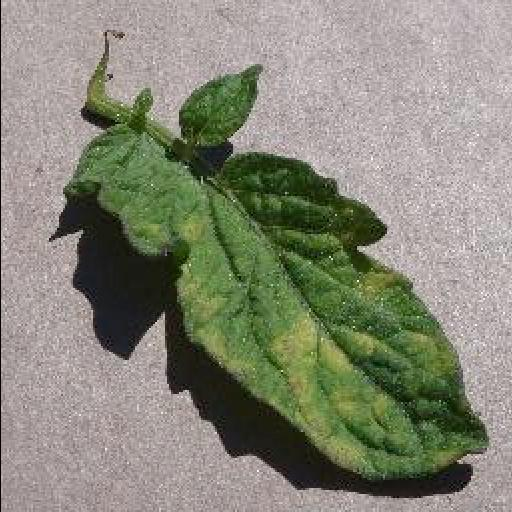disease_tomato: (62, 72, 492, 478)
